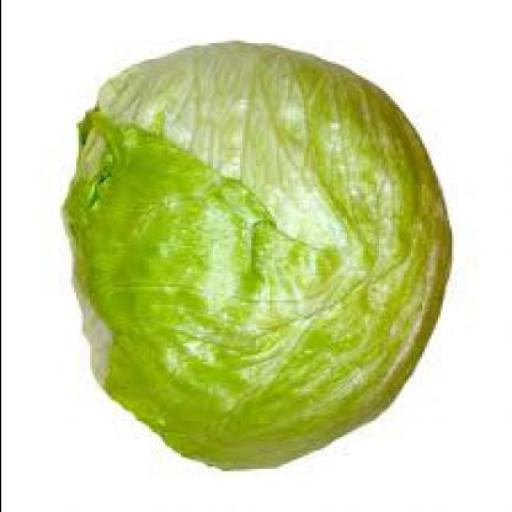biodegradable: (62, 46, 456, 472)
